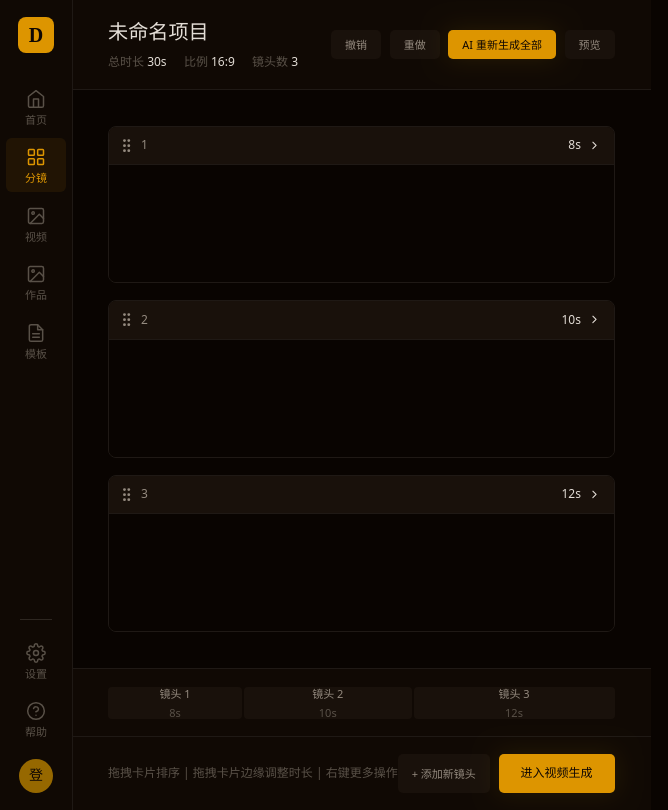
it: StoryboardPage › 右键菜单 › 通过右键菜单删除镜头
Right-click the element with class "shot-card" showing "1 8s 镜头描述 运镜方式 音效风格 备注" at (361, 204), box [108, 126, 614, 283]
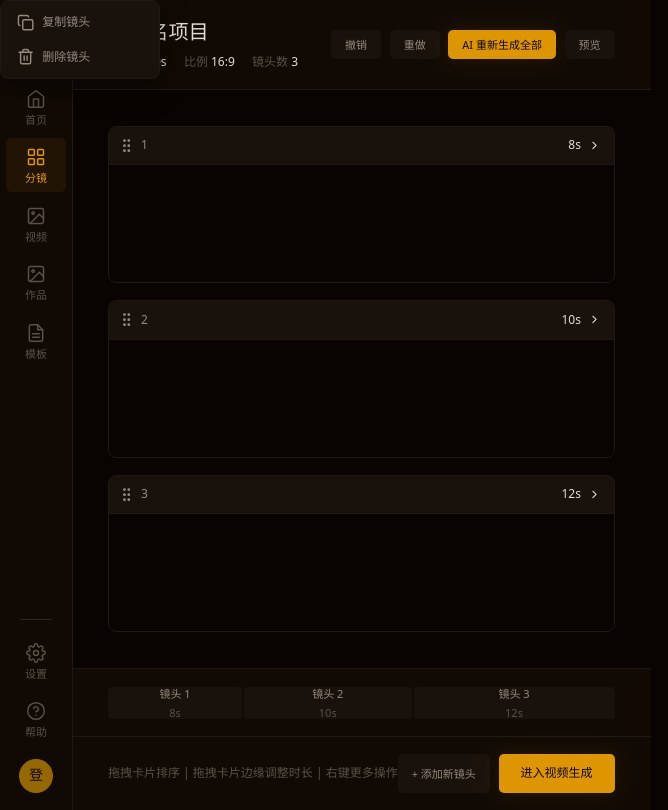
Click the button "删除镜头" at (80, 57), box [5, 40, 155, 74]
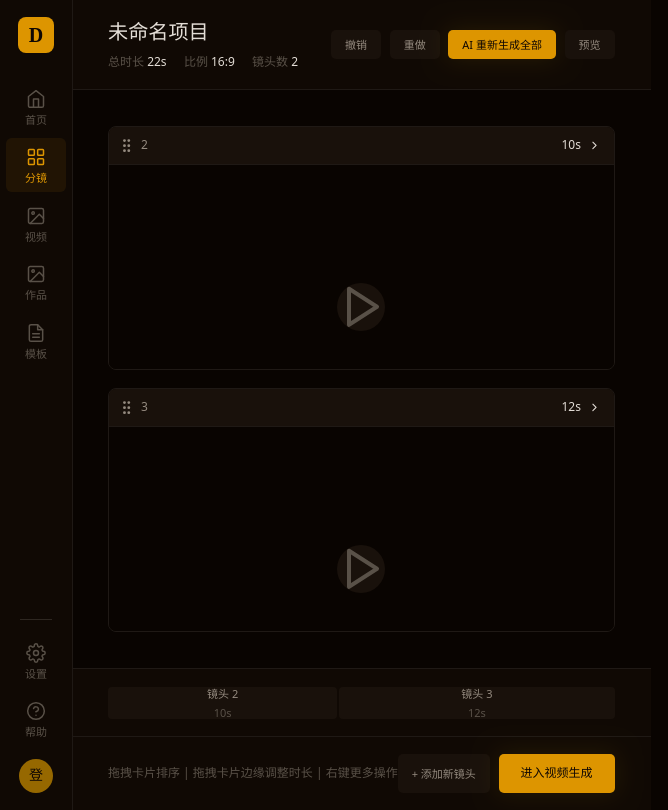
Expected: the number of elements with class "shot-card" is 2, [108, 126, 614, 370]; [108, 388, 614, 632]
